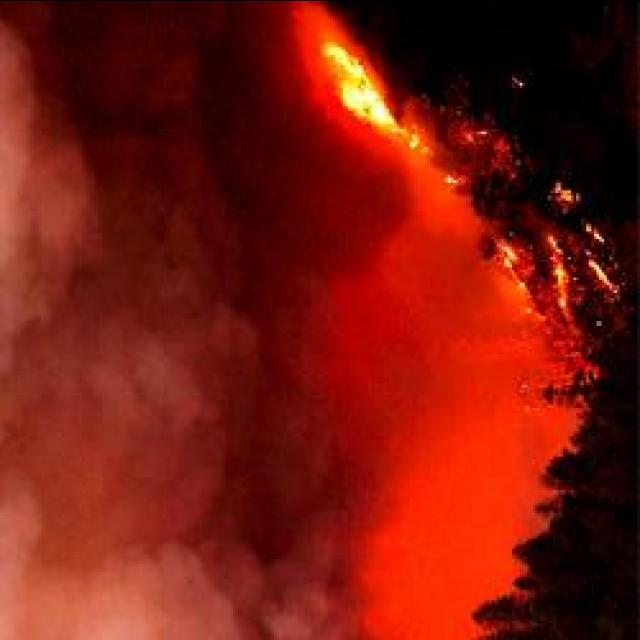fire: (322, 30, 388, 146)
smoke: (127, 126, 277, 416), (0, 478, 264, 637), (1, 0, 112, 366), (333, 428, 472, 634)
